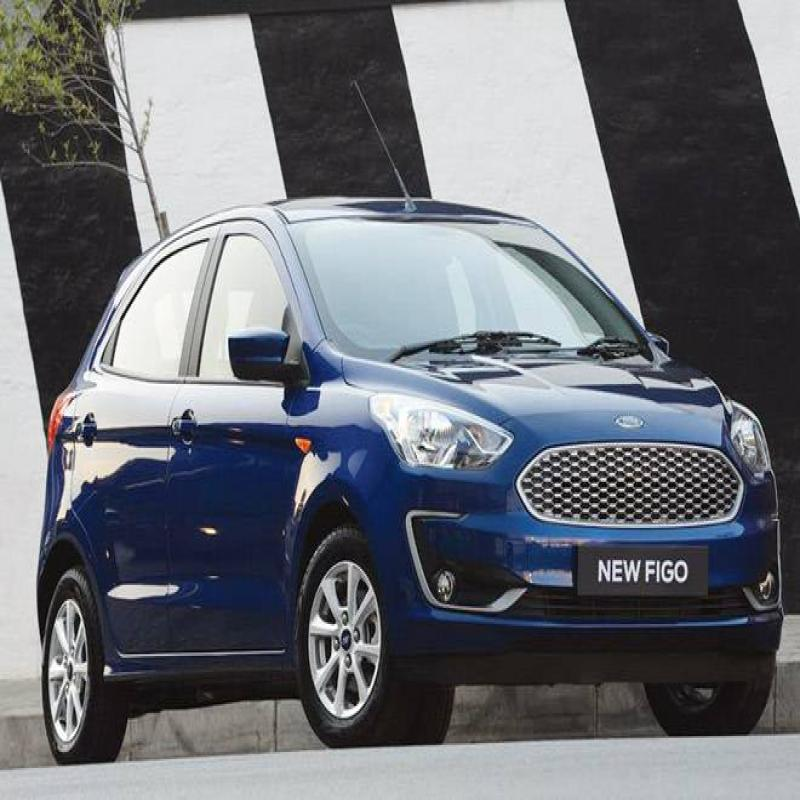car: (20, 192, 789, 734)
